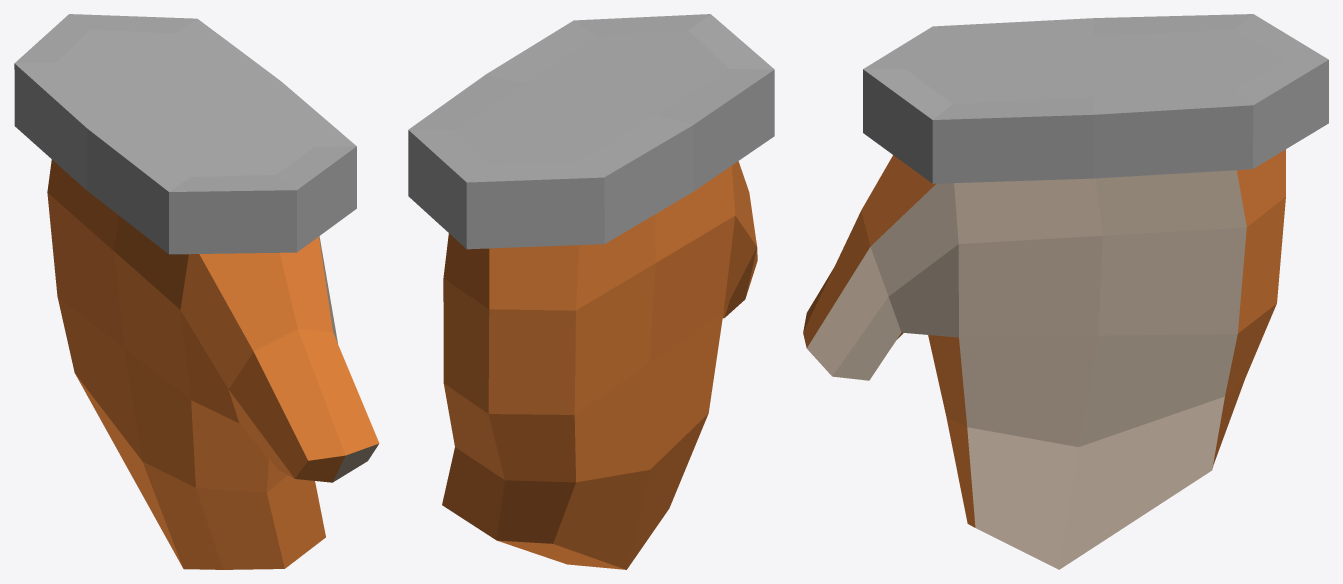
File: HandR.fbx
3 views of the same model, side by side, from view 1: azimuth 30°, elevation 25°; view 2: azimuth 150°, elevation 25°; view 3: azimuth 270°, elevation 25° (orthographic). The views are drawn at different scales.
Visible parts, largest first — view 1: Hand_R; view 2: Hand_R; view 3: Hand_R.
Part boxes in pixels (box(x1,y1,x2,y2)): Hand_R: box(14, 14, 379, 569); Hand_R: box(408, 14, 774, 569); Hand_R: box(803, 14, 1328, 569).
Bounding box in the file's own units: 6.27 × 14.33 × 14.42.
